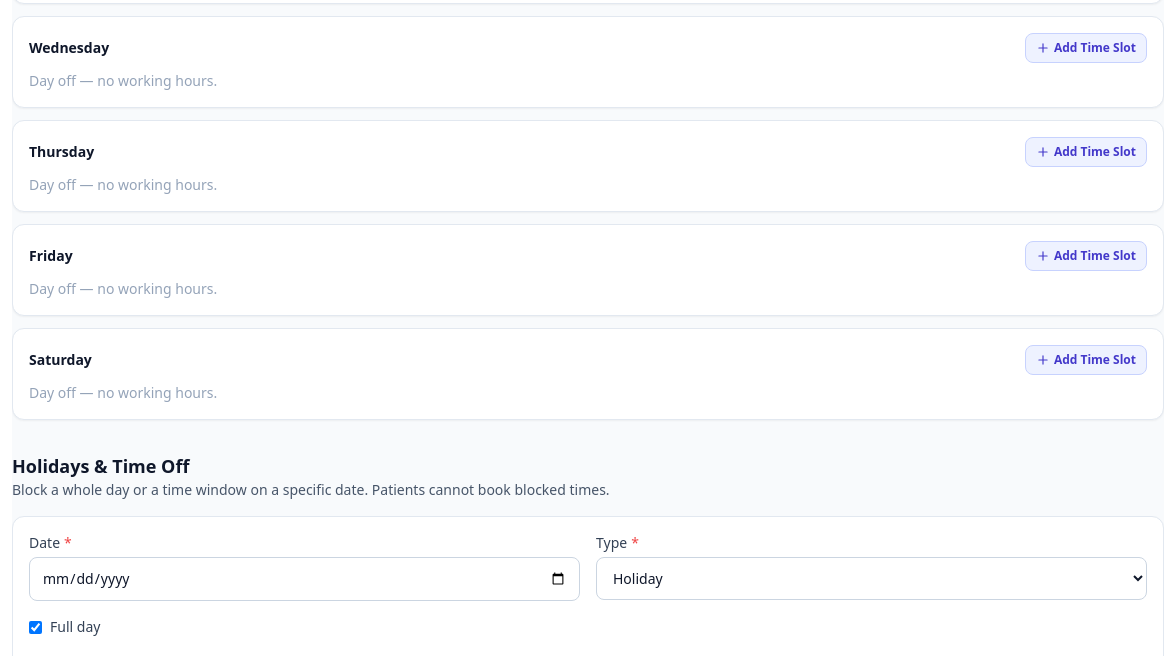
Test: Weekly Recurring Schedule Editor (/doctor/schedule) › Save Schedule PUTs every slot and shows a success toast; Save is disabled again afterwards (AC-F006-01)
(page scrolled)
Click the button with aria-label "Add time slot for Saturday".
click(1086, 360)  # box [1025,345,1147,375]
(page scrolled)
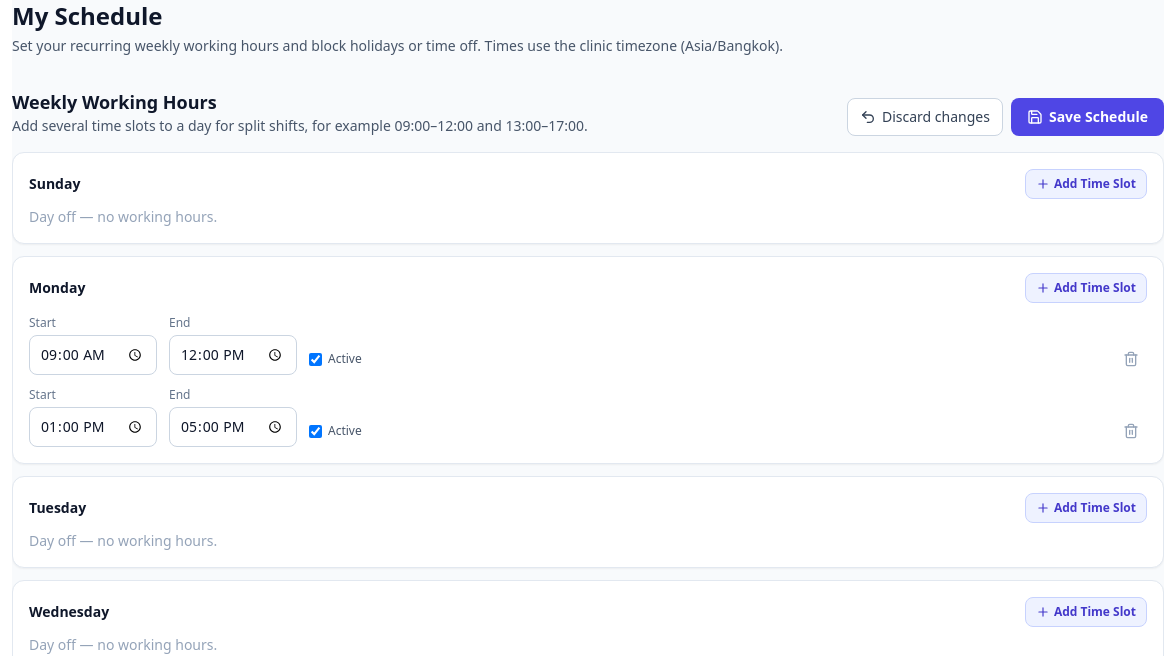
Click the button "Save Schedule".
click(1088, 117)  # box [1011,98,1164,136]
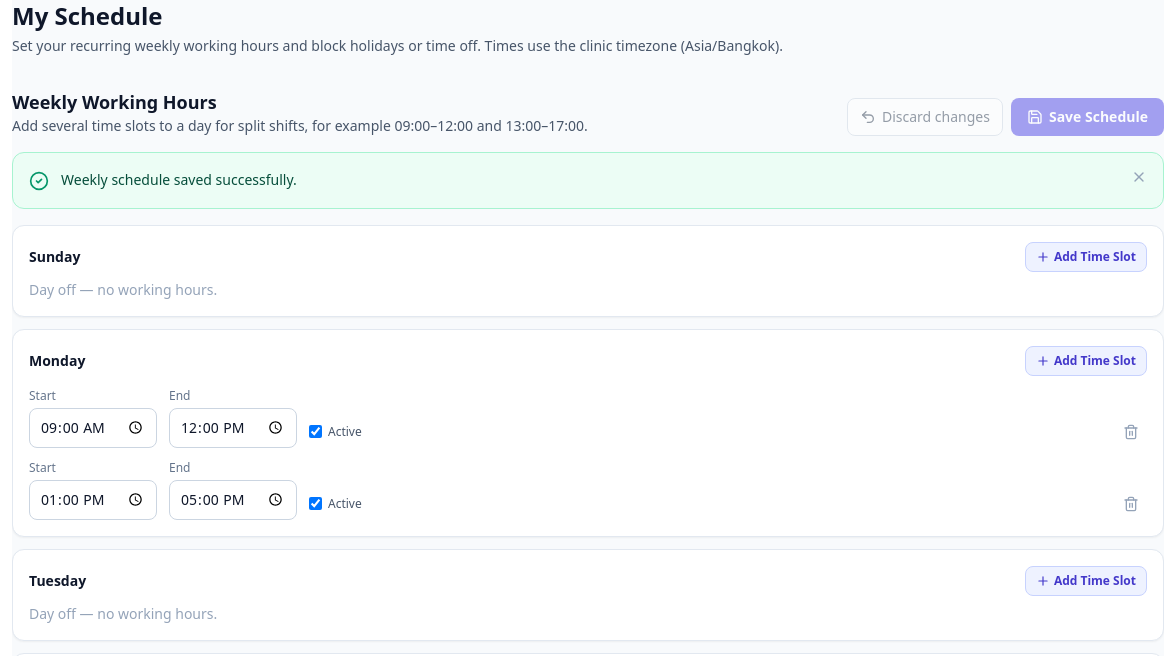
Now the message shows "saved successfully", box [61,170,297,189]
Now the button "Save Schedule" is disabled, box [1011,98,1164,136]
